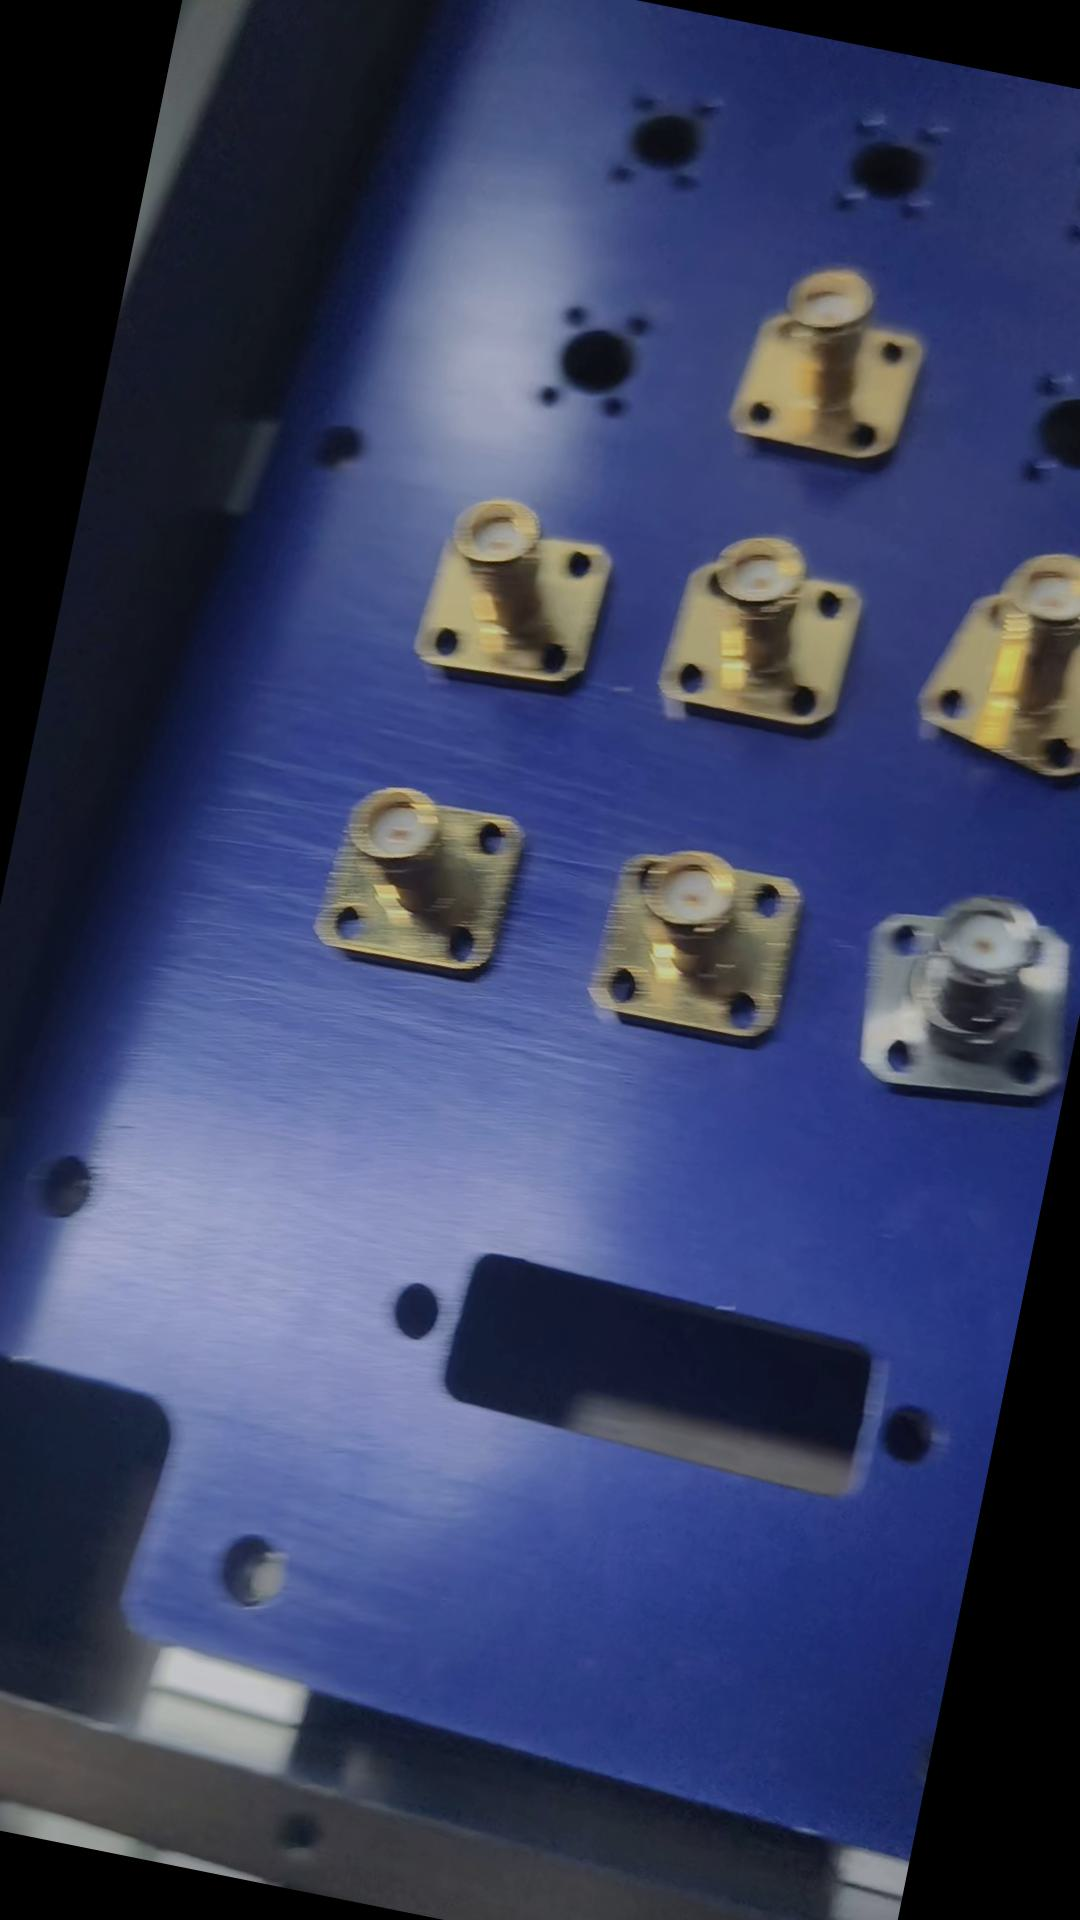SMA: (837, 876, 1079, 1129), (580, 832, 819, 1059), (647, 514, 877, 746), (731, 251, 953, 483), (305, 775, 535, 994), (400, 484, 624, 700), (914, 531, 1079, 800)
